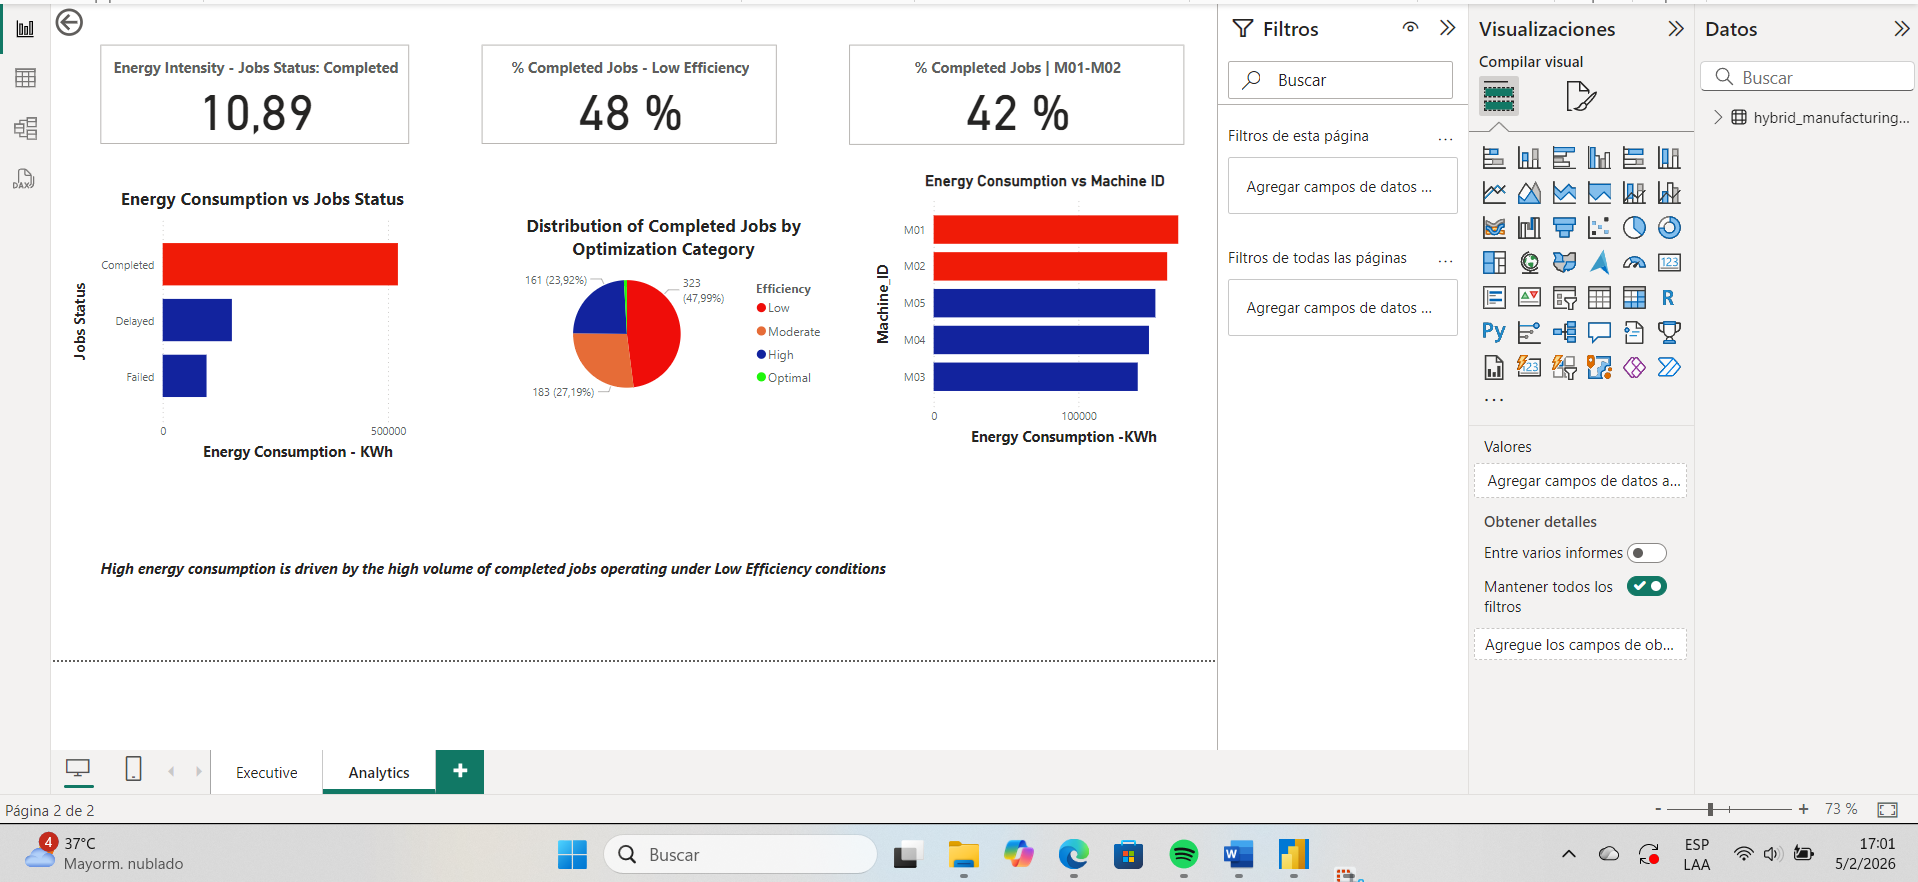

The page's visual inventory and layout, read from the dashboard file:
{"tool":"powerbi","page":{"name":"Página 7","canvas":[1280,720],"ordinal":1},"visuals":[{"type":"clusteredBarChart","title":"Energy Consumption vs Jobs Status","fields":{"Category":["hybrid_manufacturing_categorica.Job_Status"],"Y":["Sum(hybrid_manufacturing_categorica.Energy_Consumption)"]},"box":[19.2,200.3,425.4,306],"z":0},{"type":"clusteredBarChart","title":"Energy Consumption vs Machine ID","fields":{"Category":["hybrid_manufacturing_categorica.Machine_ID"],"Y":["Sum(hybrid_manufacturing_categorica.Energy_Consumption)"]},"box":[901.3,183.9,378.7,306],"z":1000},{"type":"cardVisual","fields":{"Data":["hybrid_manufacturing_categorica.Avg Energy Consumption (Completed)"]},"box":[49.4,39.8,349.9,119.4],"z":2000},{"type":"pieChart","title":"Distribution of Completed Jobs by Optimization Category","fields":{"Y":["CountNonNull(hybrid_manufacturing_categorica.Job_Status)"],"Category":["hybrid_manufacturing_categorica.Optimization_Category"]},"box":[486.5,230.5,373.2,214.1],"z":3000},{"type":"actionButton","box":[0,0,100,40],"z":4000},{"type":"cardVisual","fields":{"Data":["hybrid_manufacturing_categorica.% Completed Jobs - Low Efficiency"]},"box":[467.9,39.8,334.8,119.4],"z":5000},{"type":"textbox","box":[49.4,603.8,1165,41.2],"z":6000},{"type":"cardVisual","fields":{"Data":["hybrid_manufacturing_categorica.% Completed Jobs by Machine"]},"box":[871.4,39.8,378.7,120.8],"z":7001}]}

Visuals, with their boxes on the page's 1280x720 design canvas (x1, y1, x2, y2). These are canvas units, not pixel positions in the 1918x882 screenshot, which may show the page scaled, cropped or inside an application window:
"Energy Consumption vs Jobs Status" clusteredBarChart: x1=19, y1=200, x2=445, y2=506
"Energy Consumption vs Machine ID" clusteredBarChart: x1=901, y1=184, x2=1280, y2=490
cardVisual - hybrid_manufacturing_categorica.Avg Energy Consumption (Completed): x1=49, y1=40, x2=399, y2=159
"Distribution of Completed Jobs by Optimization Category" pieChart: x1=486, y1=230, x2=860, y2=445
actionButton: x1=0, y1=0, x2=100, y2=40
cardVisual - hybrid_manufacturing_categorica.% Completed Jobs - Low Efficiency: x1=468, y1=40, x2=803, y2=159
textbox: x1=49, y1=604, x2=1214, y2=645
cardVisual - hybrid_manufacturing_categorica.% Completed Jobs by Machine: x1=871, y1=40, x2=1250, y2=161
